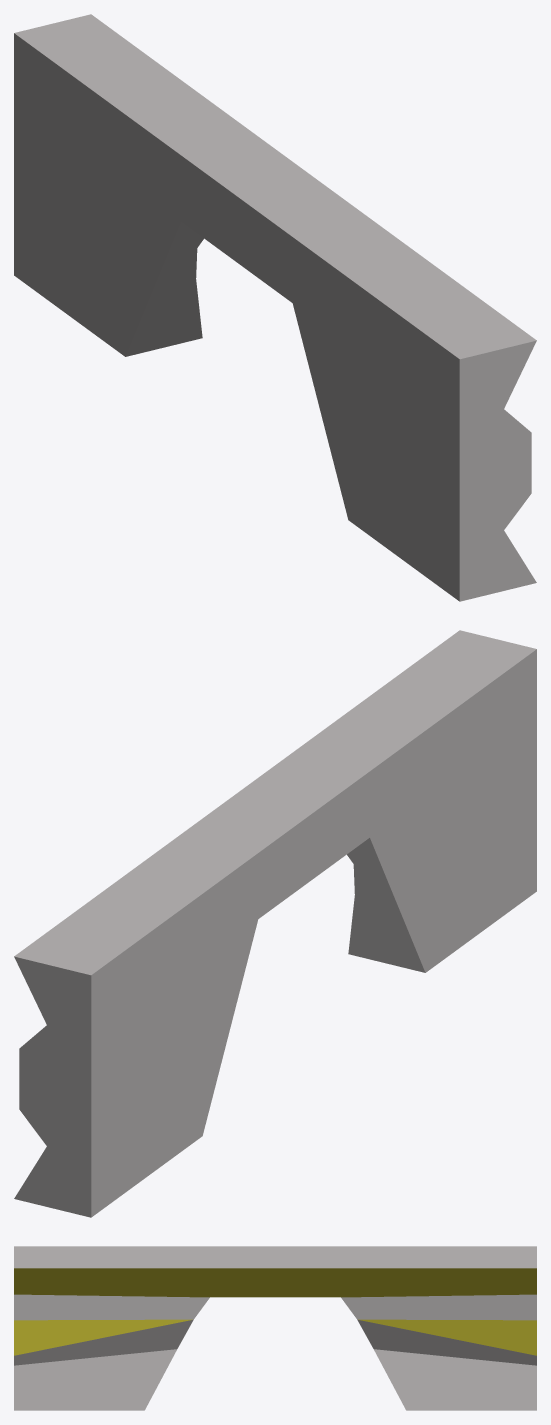
File: Doorwallyellow.fbx
3 views of the same model, one above another, from view 1: azimuth 30°, elevation 25°; view 2: azimuth 150°, elevation 25°; view 3: azimuth 270°, elevation 25° (orthographic). The views are drawn at different scales.
Visible parts, largest first — view 1: Cube; view 2: Cube; view 3: Cube.
Boxes of the visible parts, x1=… form: Cube: x1=14, y1=14, x2=536, y2=601; Cube: x1=14, y1=630, x2=536, y2=1217; Cube: x1=14, y1=1246, x2=536, y2=1410.
Bounding box in the file's own units: 20 × 60 × 200.
